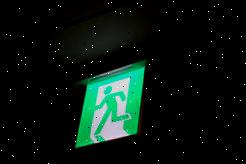emergency_exit: (74, 59, 147, 150)
